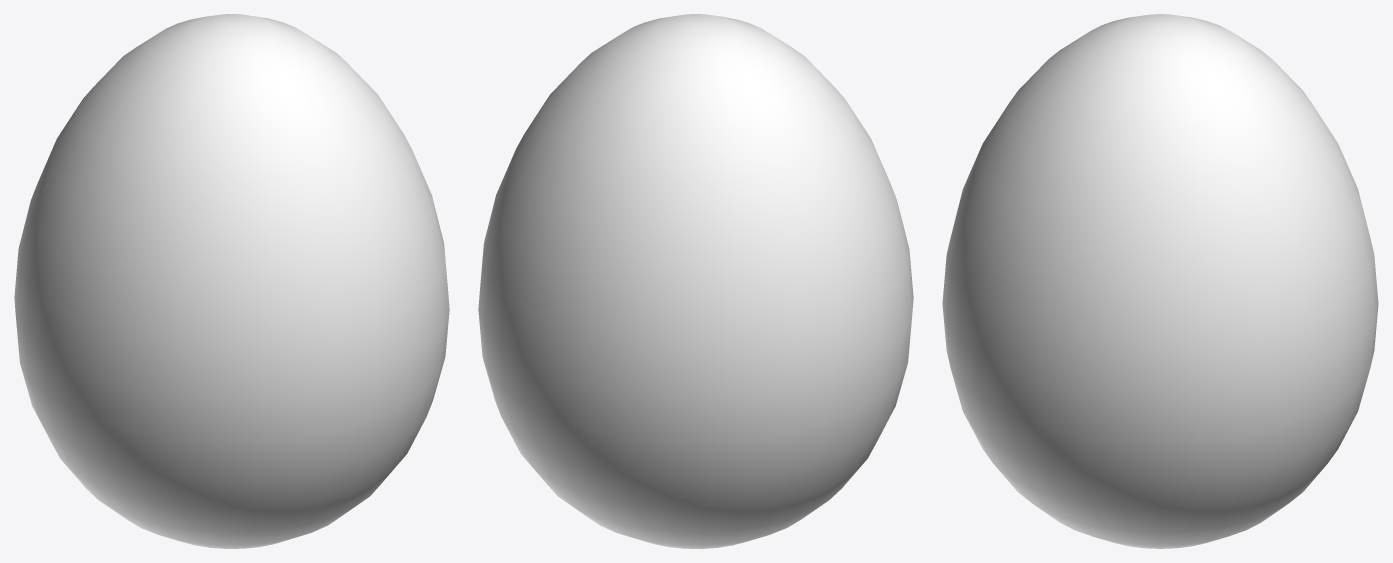
File: Egg.obj
3 views of the same model, side by side, from view 1: azimuth 30°, elevation 25°; view 2: azimuth 150°, elevation 25°; view 3: azimuth 270°, elevation 25° (orthographic).
Visible parts, largest first — view 1: Sphere; view 2: Sphere; view 3: Sphere.
Part boxes in pixels (x1,y1,x2,y2): Sphere: (14, 14, 449, 548); Sphere: (478, 14, 913, 548); Sphere: (942, 14, 1378, 548).
Bounding box in the file's own units: 1 × 1.28 × 1.
1 material, 1 textured.
